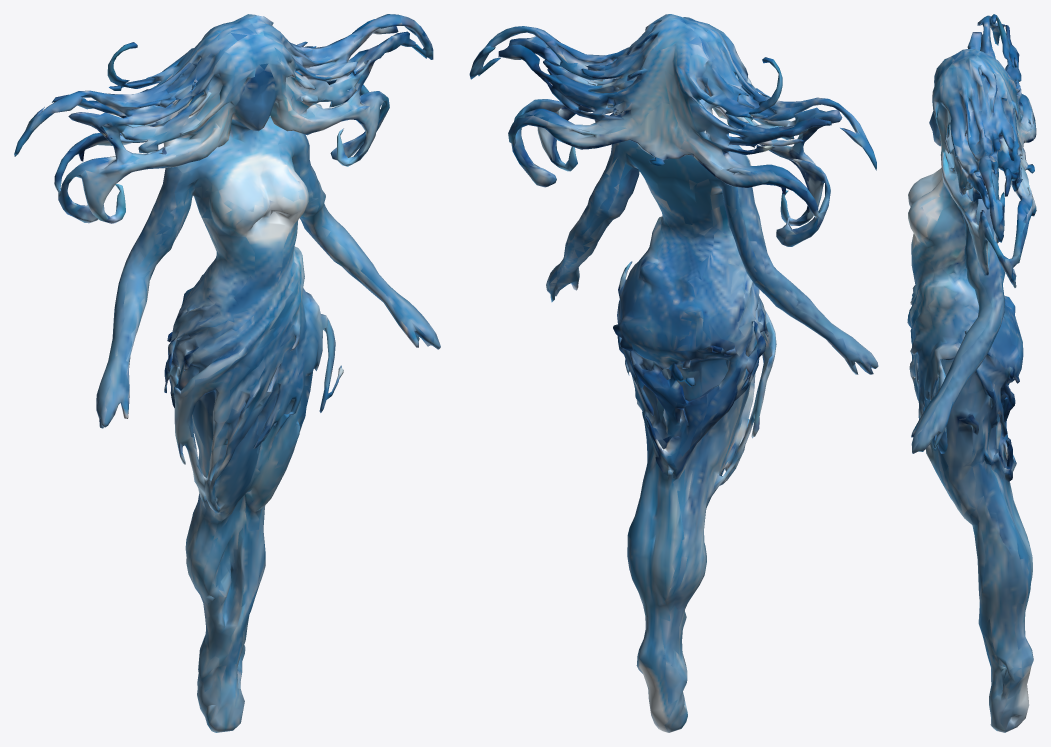
Rendered from enemy_water.glb.
3 views of the same model, side by side, from view 1: azimuth 30°, elevation 25°; view 2: azimuth 150°, elevation 25°; view 3: azimuth 270°, elevation 25° (orthographic). The views are drawn at different scales.
Parts seen in each view (by area): view 1: flow_enemy_water; view 2: flow_enemy_water; view 3: flow_enemy_water.
Part boxes in pixels (box(x1,y1,x2,y2)): flow_enemy_water: box(14, 14, 440, 732); flow_enemy_water: box(469, 14, 878, 732); flow_enemy_water: box(907, 14, 1036, 732).
Bounding box in the file's own units: 1.01 × 1.67 × 0.288.
1 material, 1 textured.
